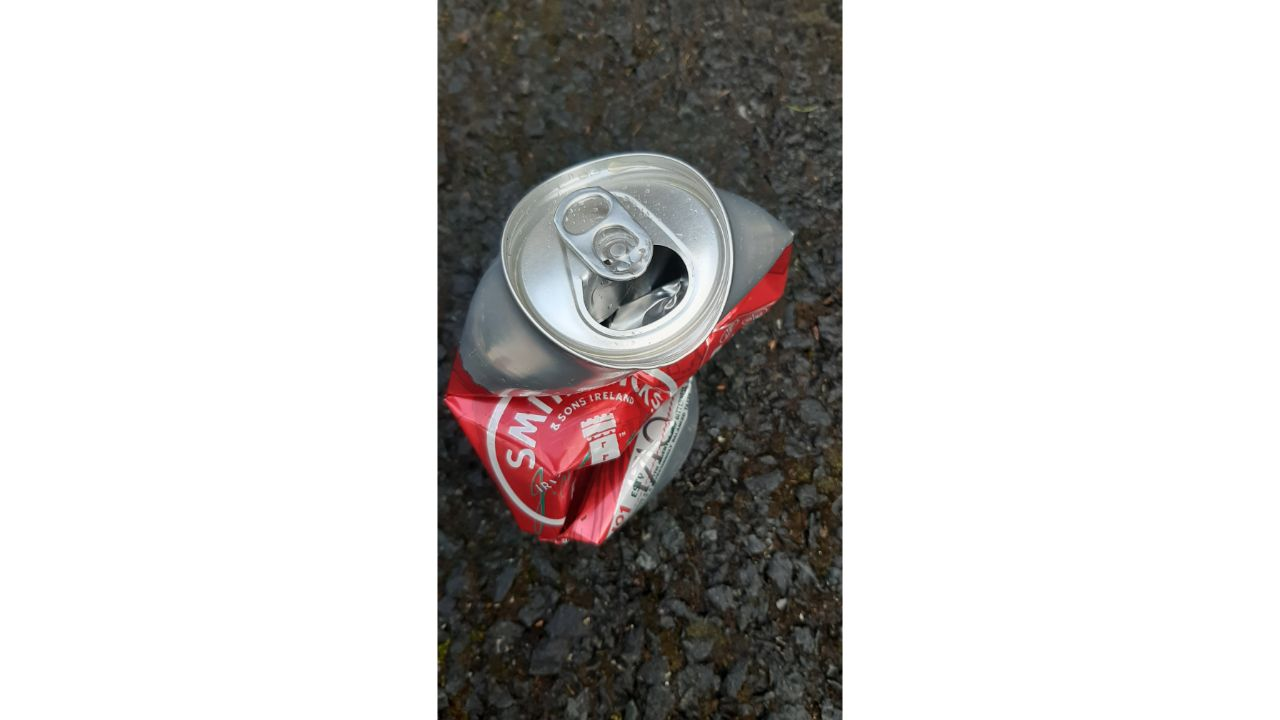Can: (442, 150, 797, 544)
